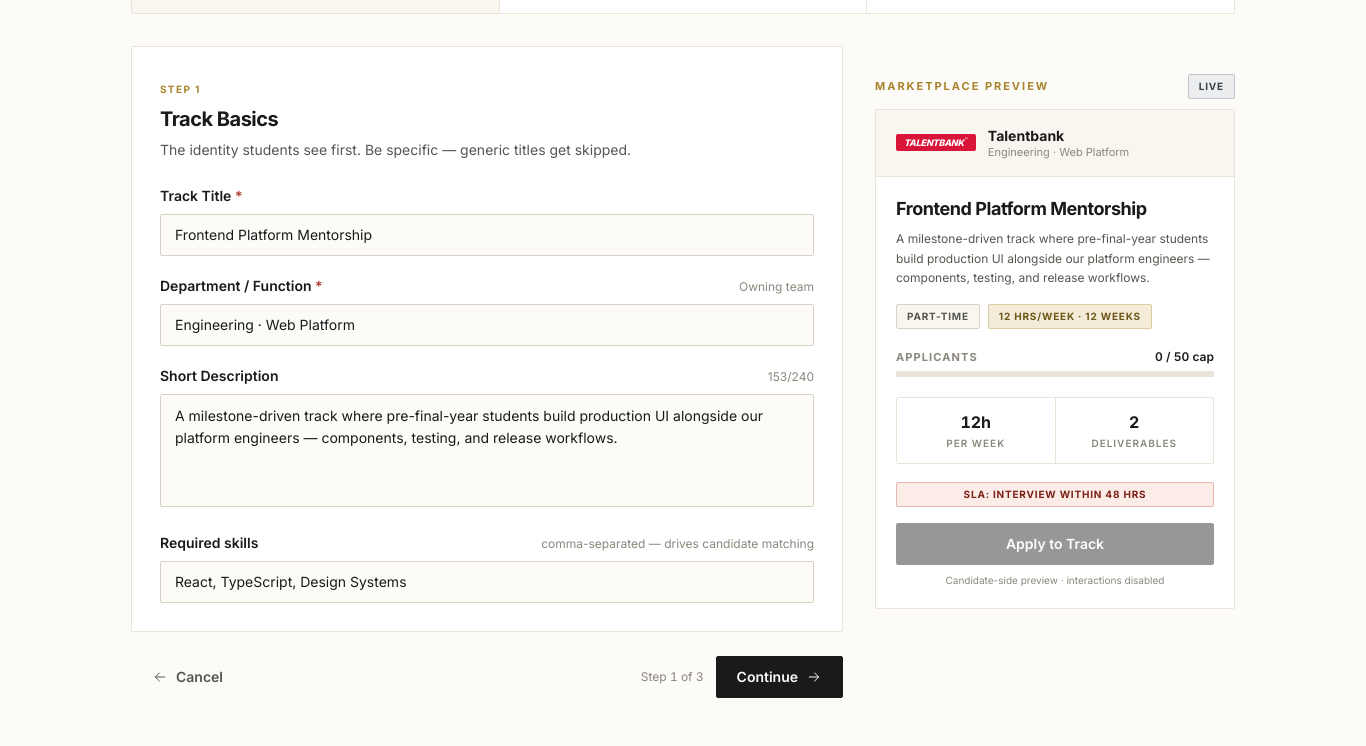
Scenario: TrackBuilder › publishes when weights balance and a titled deliverable exists
The image size is (1366, 746).
(page scrolled)
Click the button "Continue": click(779, 676) [716,656,843,698]
(page scrolled)
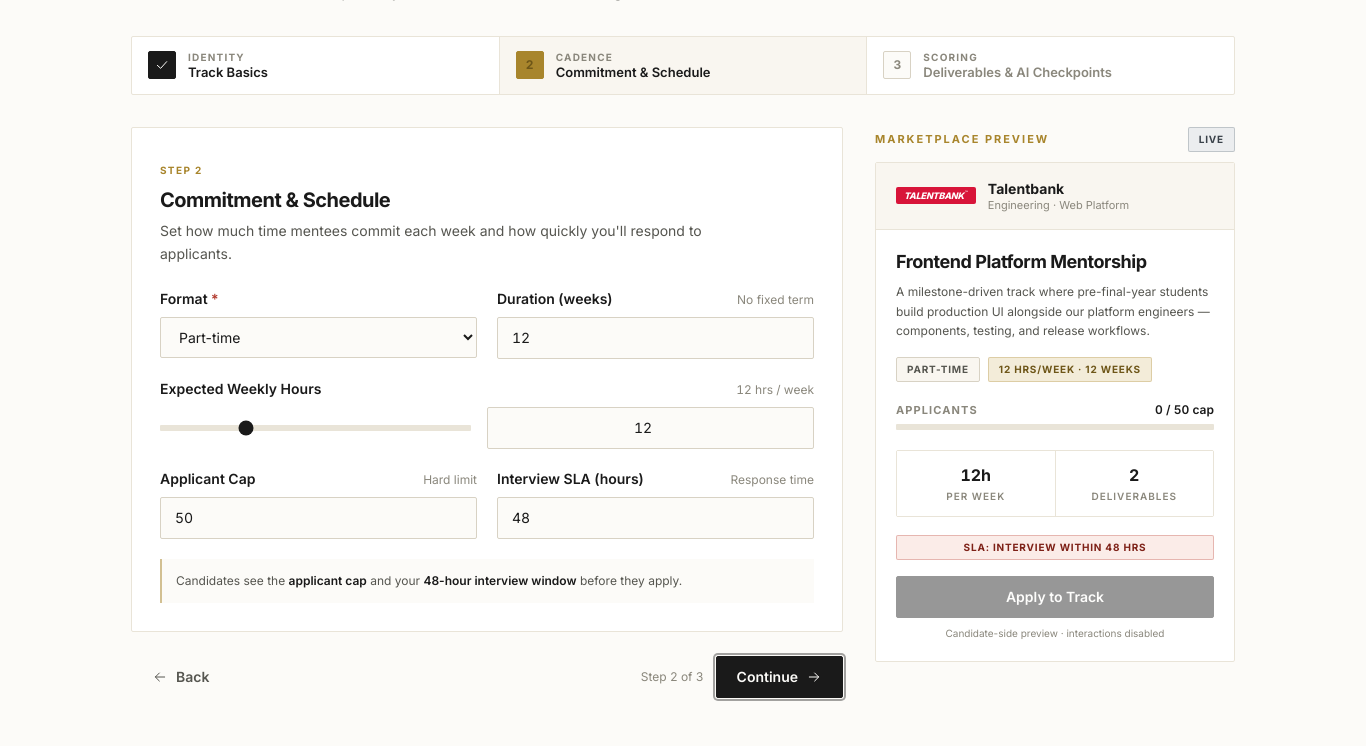
Click the button "Continue": click(779, 677) [716,656,843,698]
(page scrolled)
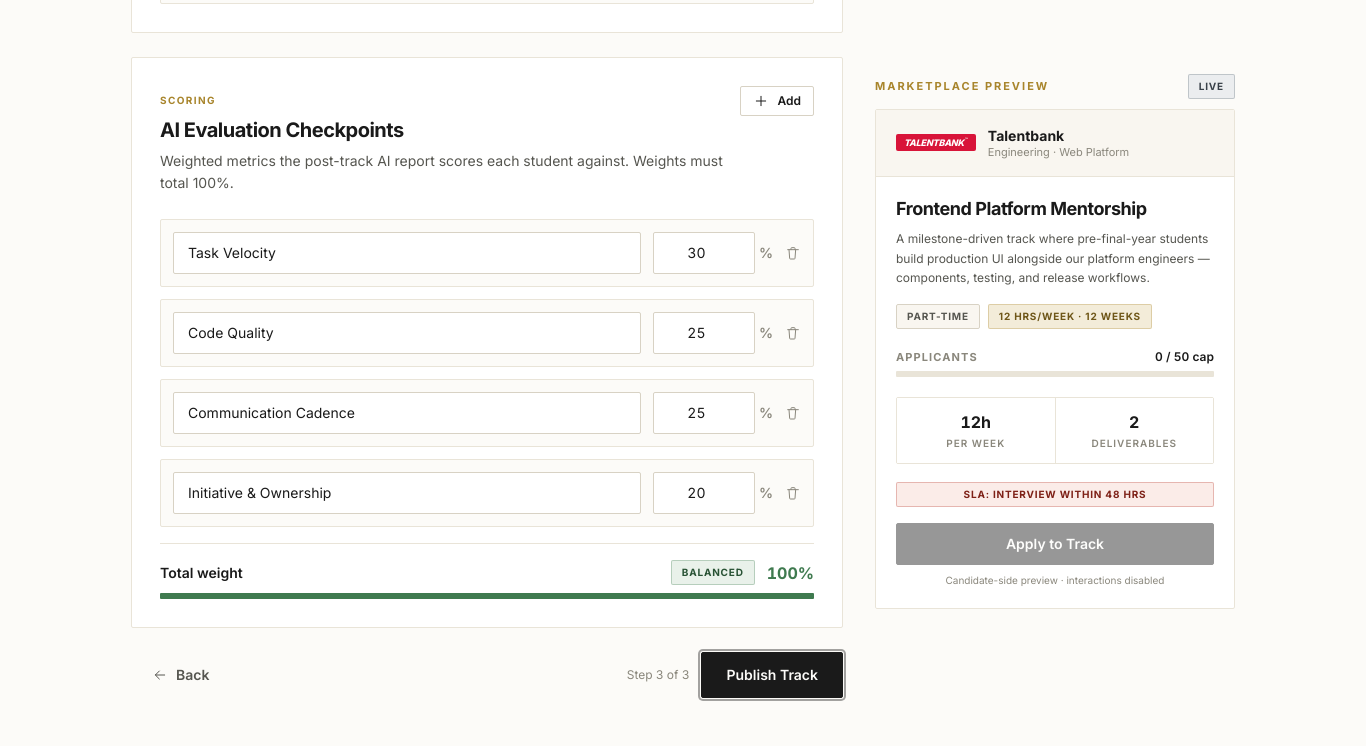
Click the button "Publish Track": click(772, 675) [702,652,843,698]
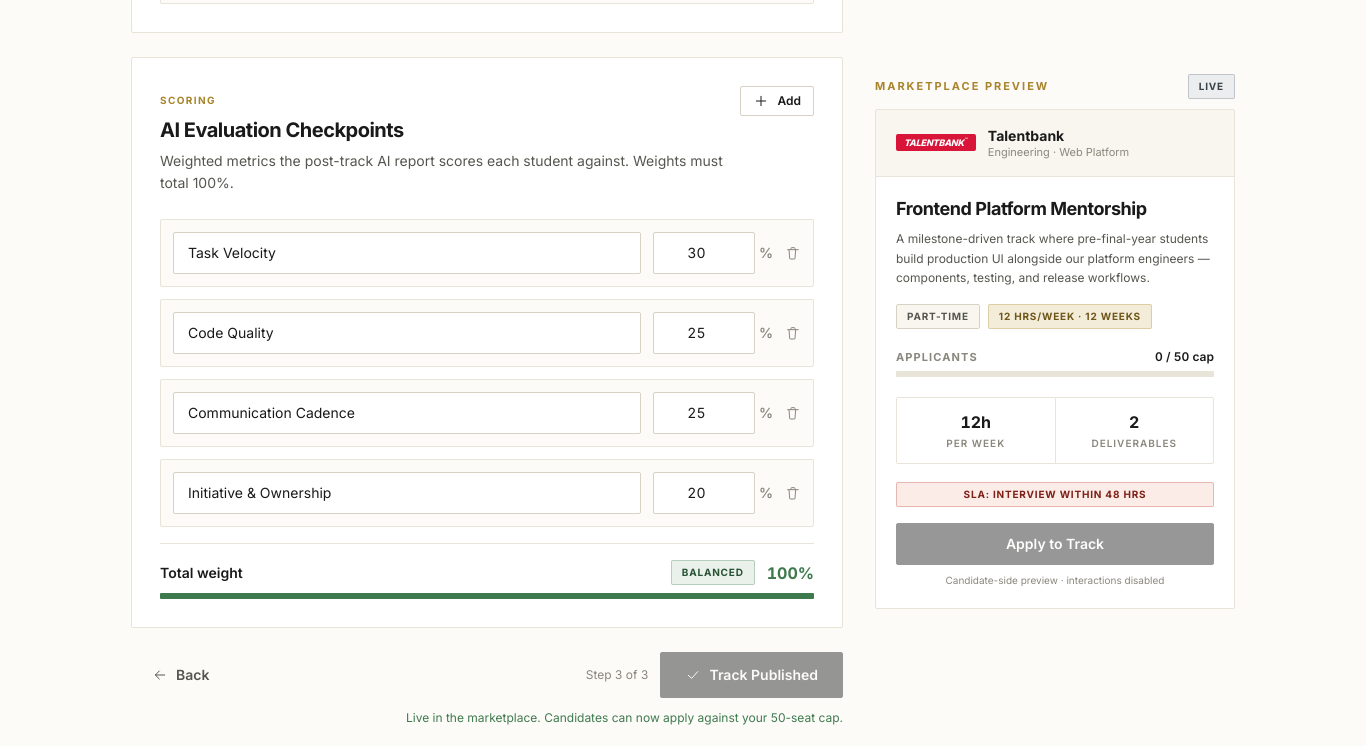
Now the button "Track Published" is disabled, box [660,652,843,698]
Now the text "Live in the marketplace" is shown, box [406,710,771,725]
